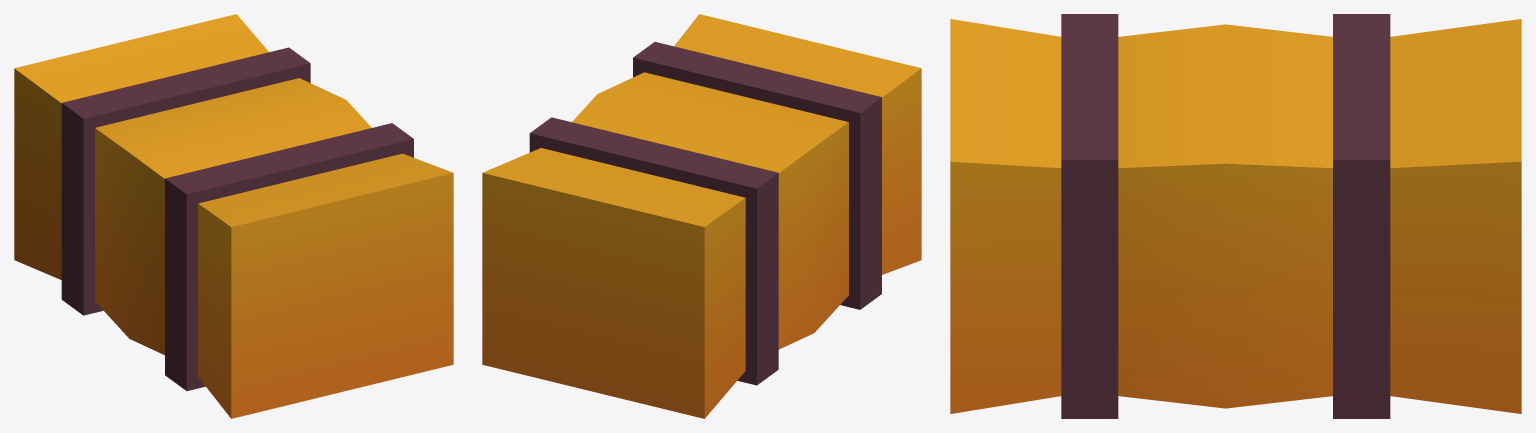
The model's file is p-fardo.glb.
3 renders of one model, left to right at view 1: azimuth 30°, elevation 25°; view 2: azimuth 150°, elevation 25°; view 3: azimuth 270°, elevation 25°, orthographic. The views are drawn at different scales.
Parts seen in each view (by area): view 1: Hay_Bale; view 2: Hay_Bale; view 3: Hay_Bale.
Boxes of the visible parts, x1=… form: Hay_Bale: x1=14, y1=14, x2=453, y2=418; Hay_Bale: x1=482, y1=14, x2=921, y2=418; Hay_Bale: x1=950, y1=14, x2=1521, y2=418.
Size of the model in its own units: 0.3559 by 0.2946 by 0.5889.
1 material, 1 textured.
